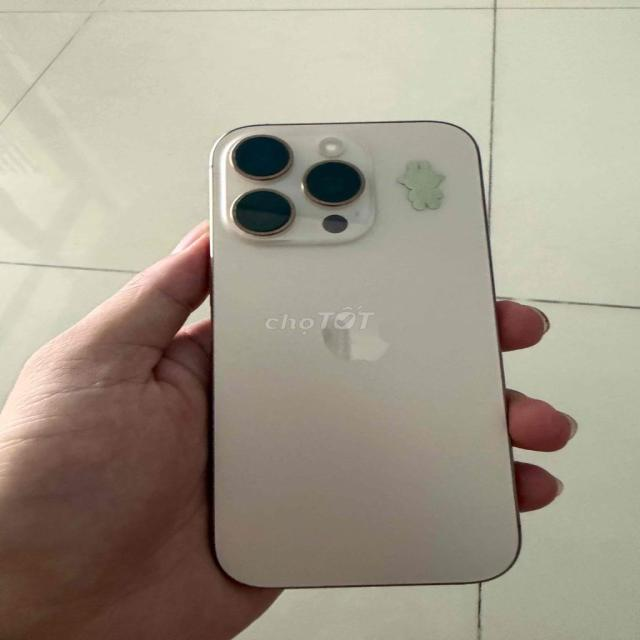gen_16: (209, 121, 519, 588)
